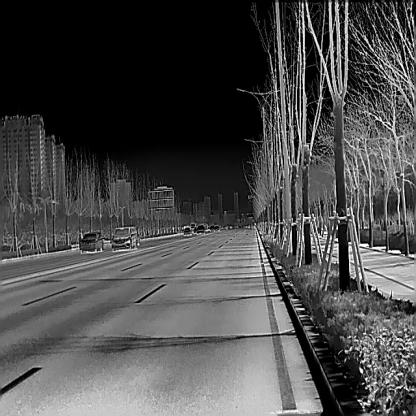car: (111, 226, 137, 250), (79, 231, 103, 252), (196, 224, 204, 234), (183, 226, 191, 235), (213, 225, 219, 232), (209, 225, 214, 232)
